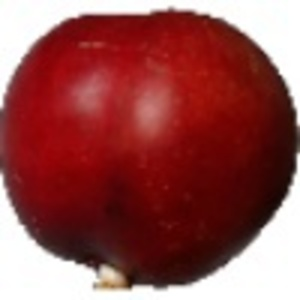nectarina: (1, 6, 300, 300)
